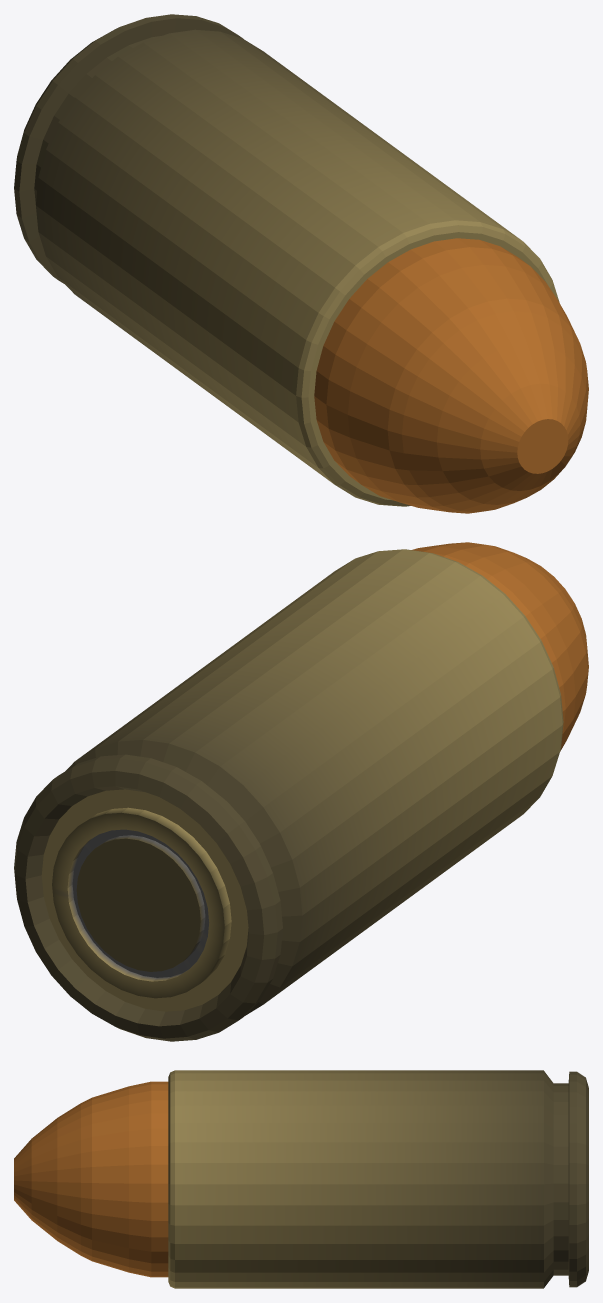
File: bullet.glb
The picture shows the model from 3 angles, top to bottom: view 1: azimuth 30°, elevation 25°; view 2: azimuth 150°, elevation 25°; view 3: azimuth 270°, elevation 25°; orthographic projection. The views are drawn at different scales.
Visible parts, largest first — view 1: casing, projectile; view 2: casing, backside, projectile; view 3: casing, projectile.
Boxes of the visible parts, x1,y1,x2,y2 form: casing: [14, 14, 559, 506]; projectile: [314, 238, 588, 513]; casing: [14, 549, 563, 1041]; backside: [41, 789, 248, 1011]; projectile: [412, 542, 588, 751]; casing: [168, 1070, 588, 1288]; projectile: [14, 1081, 168, 1277].
Size of the model in its own units: 0.1533 by 0.1533 by 0.4038.
